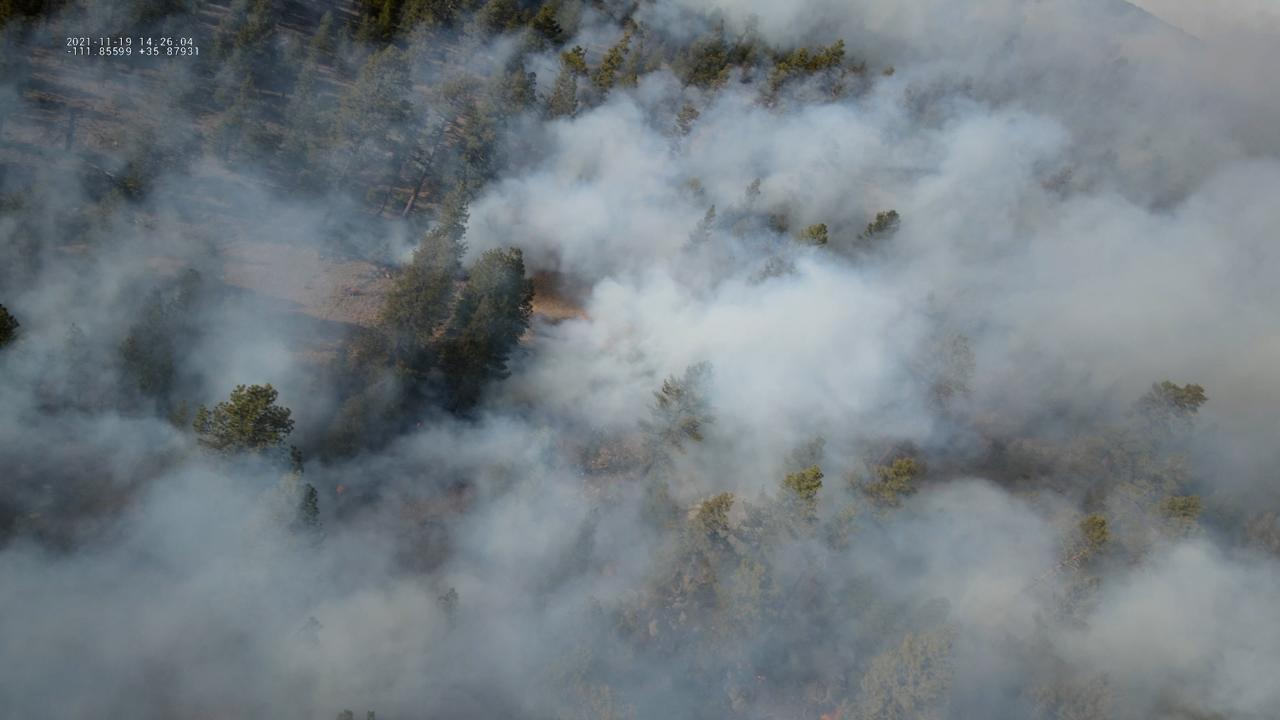fire: (818, 707, 842, 720), (334, 484, 346, 495), (416, 420, 422, 428)
smoke: (0, 0, 1280, 720)
